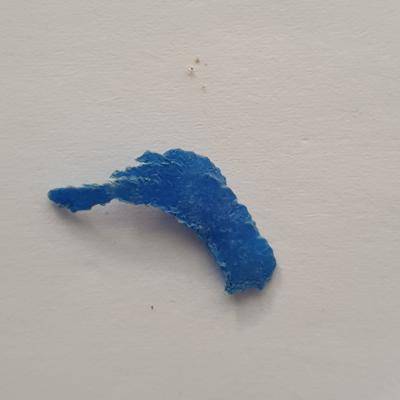plastic: (45, 140, 285, 300)
